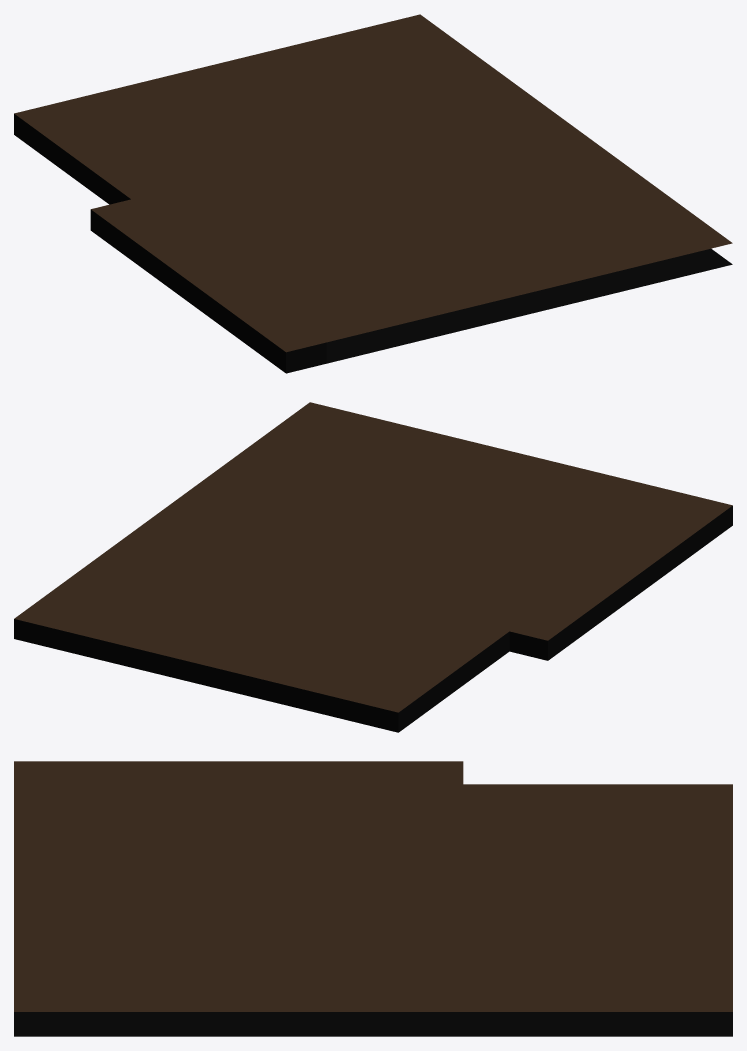
The model's file is SH_lvl1_Floor_04.fbx.
3 renders of one model, top to bottom at view 1: azimuth 30°, elevation 25°; view 2: azimuth 150°, elevation 25°; view 3: azimuth 270°, elevation 25°, orthographic. The views are drawn at different scales.
Visible parts, largest first — view 1: Cube.142; view 2: Cube.142; view 3: Cube.142.
Boxes of the visible parts, x1,y1,x2,y2 form: Cube.142: (14,14,732,373); Cube.142: (14,402,732,732); Cube.142: (14,761,732,1036).
Size of the model in its own units: 8 by 6.6 by 0.3.
